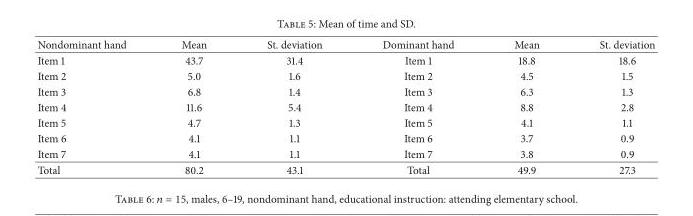table: (36, 36, 654, 177)
table column: (351, 36, 483, 177), (36, 36, 153, 177), (236, 36, 351, 177), (568, 36, 654, 177), (483, 36, 568, 177), (153, 36, 236, 177)
table column header: (36, 36, 654, 51)
table row: (36, 51, 654, 67), (36, 67, 654, 83), (36, 98, 654, 114), (36, 114, 654, 130), (36, 145, 654, 161), (36, 161, 654, 177), (36, 36, 654, 51), (36, 83, 654, 98), (36, 130, 654, 145)
